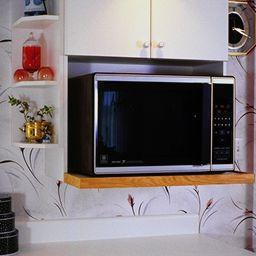Electrodomestico: (70, 73, 236, 171)
